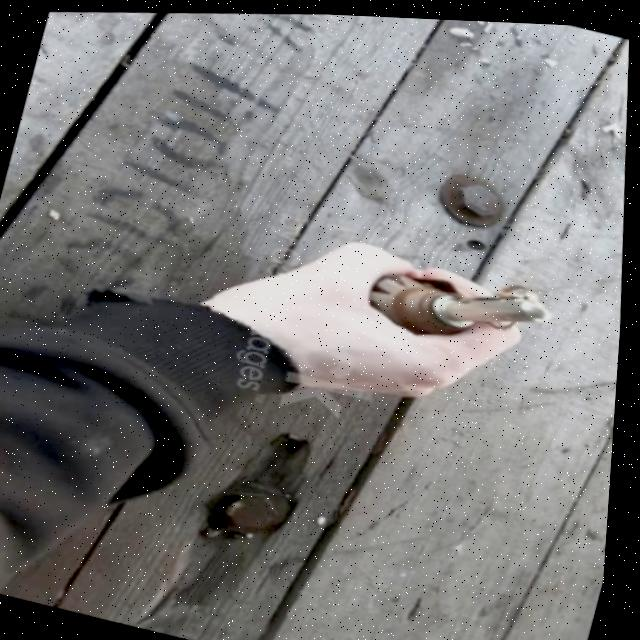grenade: (358, 243, 568, 363)
